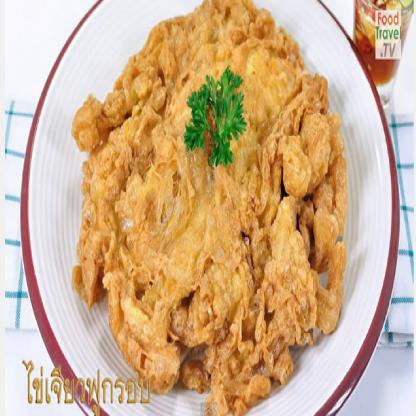Omelette: (51, 0, 358, 414)
